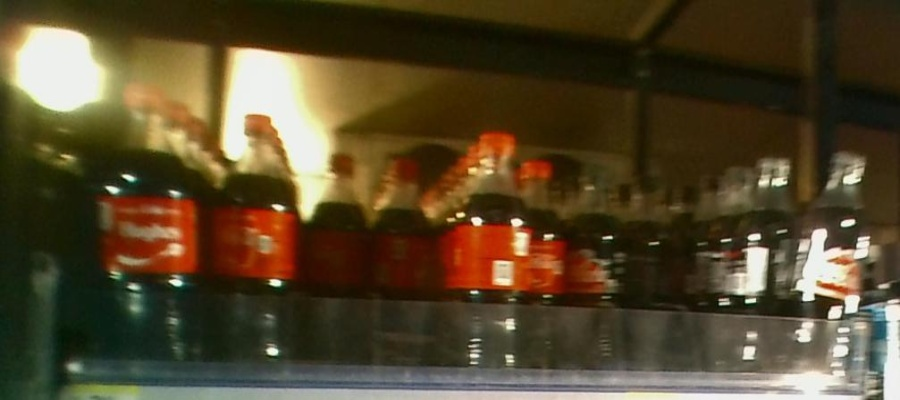bottle: (92, 72, 199, 366), (208, 103, 299, 366), (459, 127, 527, 392), (793, 153, 867, 382), (370, 154, 434, 370), (307, 141, 367, 359), (568, 150, 625, 374), (627, 158, 680, 378), (529, 148, 566, 378)
